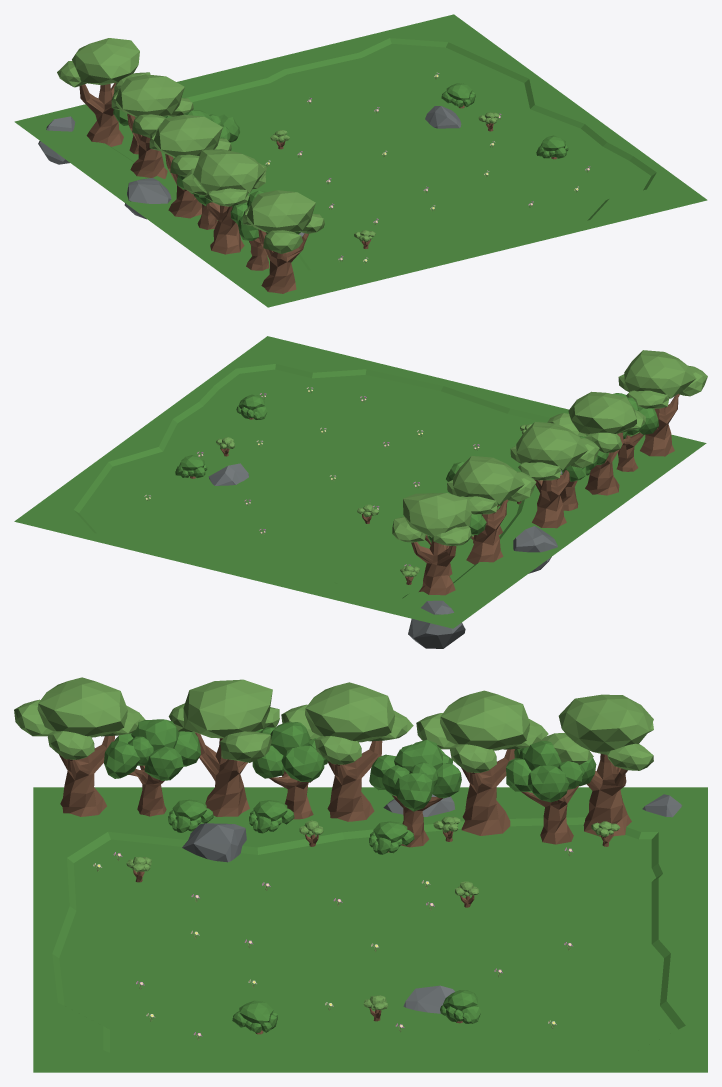
Rendered from ForestBattleMap.FBX.
The picture shows the model from 3 angles, top to bottom: view 1: azimuth 30°, elevation 25°; view 2: azimuth 150°, elevation 25°; view 3: azimuth 270°, elevation 25°; orthographic projection. The views are drawn at different scales.
Visible parts, largest first — view 1: Plane002, GeoSphere1205, GeoSphere1201, GeoSphere1303, GeoSphere1229, GeoSphere1209, Cylinder1196, Cylinder1225, Cylinder1195, Cylinder1200, rock042, Cylinder1197 (+7 smaller); view 2: Plane002, GeoSphere1209, GeoSphere1303, GeoSphere1205, GeoSphere1229, GeoSphere1201, Cylinder1196, rock045, Cylinder1197, Cylinder1200, Cylinder1225, Cylinder1195 (+8 smaller); view 3: Plane002, GeoSphere1201, GeoSphere1205, GeoSphere1303, GeoSphere1229, GeoSphere1209, Cylinder1200, Cylinder1197, Cylinder1195, Cylinder1196, Cylinder1225, rock043 (+27 smaller).
Part boxes in pixels (box(x1,y1,x2,y2)): Plane002: box(14, 14, 707, 307); GeoSphere1205: box(72, 38, 139, 85); GeoSphere1201: box(193, 149, 265, 193); GeoSphere1303: box(246, 190, 315, 232); GeoSphere1229: box(115, 74, 184, 116); GeoSphere1209: box(153, 114, 222, 156); Cylinder1196: box(79, 82, 123, 146); Cylinder1225: box(258, 229, 308, 293); Cylinder1195: box(206, 202, 244, 254); Cylinder1200: box(127, 113, 167, 178); rock042: box(124, 178, 171, 219); Cylinder1197: box(165, 154, 201, 218); Plane002: box(14, 336, 706, 628); GeoSphere1209: box(516, 422, 587, 470); GeoSphere1303: box(624, 350, 695, 398); GeoSphere1205: box(403, 493, 471, 537); GeoSphere1229: box(453, 456, 524, 504); GeoSphere1201: box(568, 391, 636, 435); Cylinder1196: box(411, 539, 456, 595); rock045: box(408, 600, 465, 648); Cylinder1197: box(532, 470, 569, 528); Cylinder1200: box(466, 499, 508, 564); Cylinder1225: box(640, 394, 679, 456); Cylinder1195: box(585, 432, 623, 495); Plane002: box(33, 787, 707, 1072); GeoSphere1201: box(183, 679, 272, 738); GeoSphere1205: box(558, 694, 653, 754); GeoSphere1303: box(37, 677, 127, 737); GeoSphere1229: box(440, 690, 529, 750); GeoSphere1209: box(305, 682, 394, 742); Cylinder1200: box(461, 749, 515, 835); Cylinder1197: box(327, 740, 382, 821); Cylinder1195: box(195, 732, 249, 816); Cylinder1196: box(583, 754, 631, 836); Cylinder1225: box(59, 735, 114, 816); rock043: box(182, 823, 246, 862).
Size of the model in its own units: 502 by 144 by 514.
